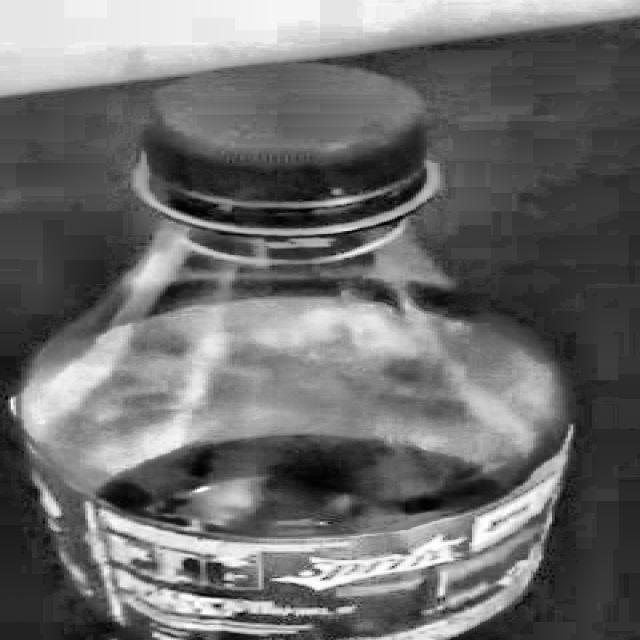bottle: (3, 63, 579, 640)
